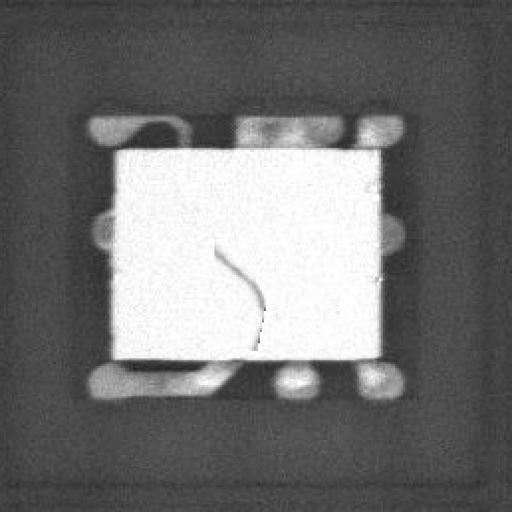DIE_INK: (212, 237, 266, 351)
